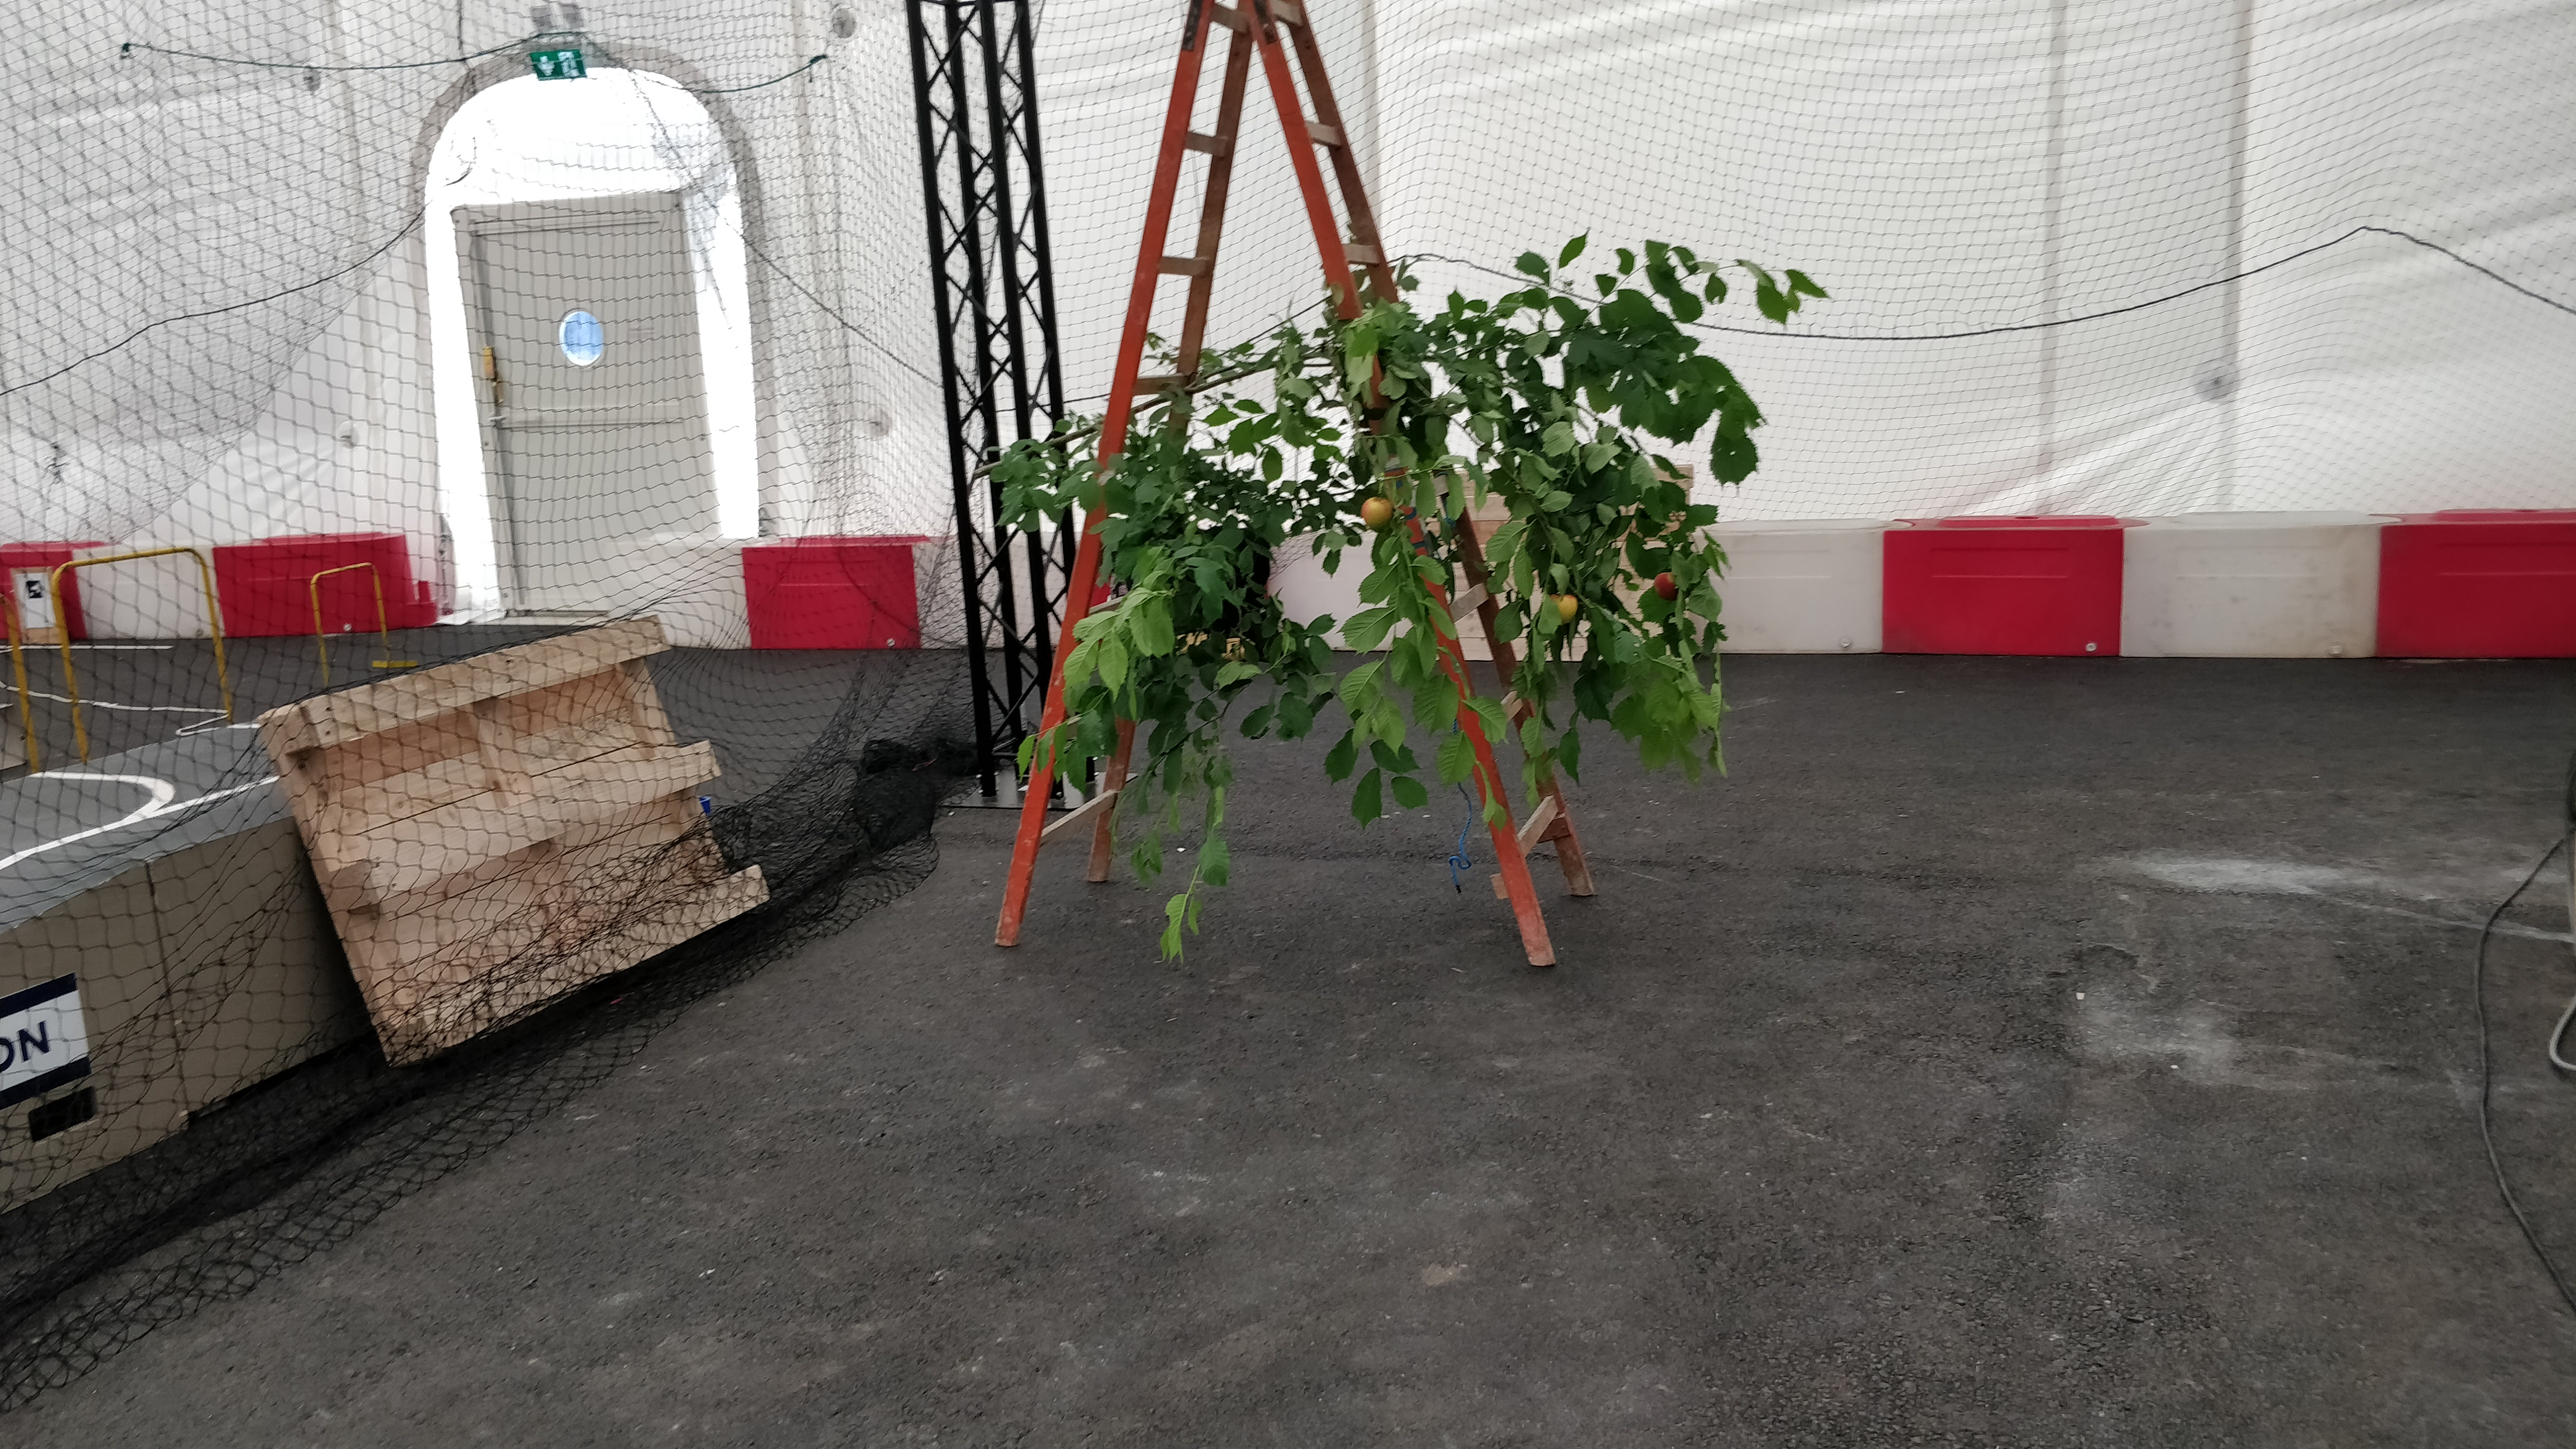apple: (1361, 497, 1392, 533), (1548, 594, 1578, 625), (1654, 573, 1679, 602)
